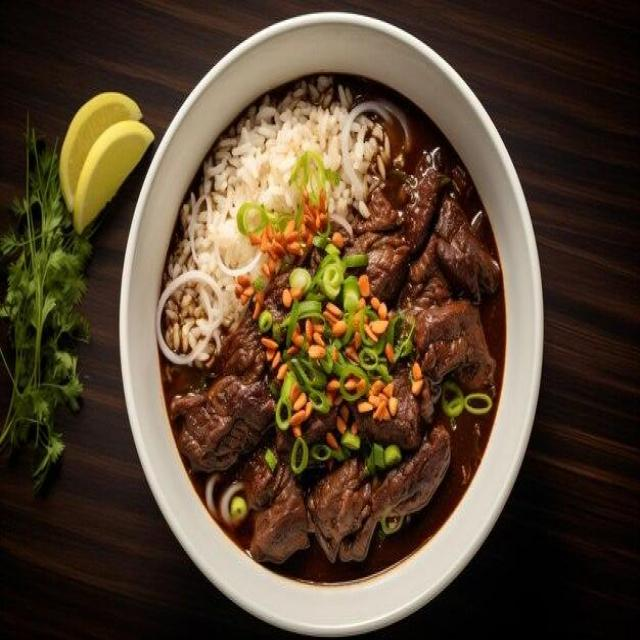Rawon: (176, 102, 489, 565)
